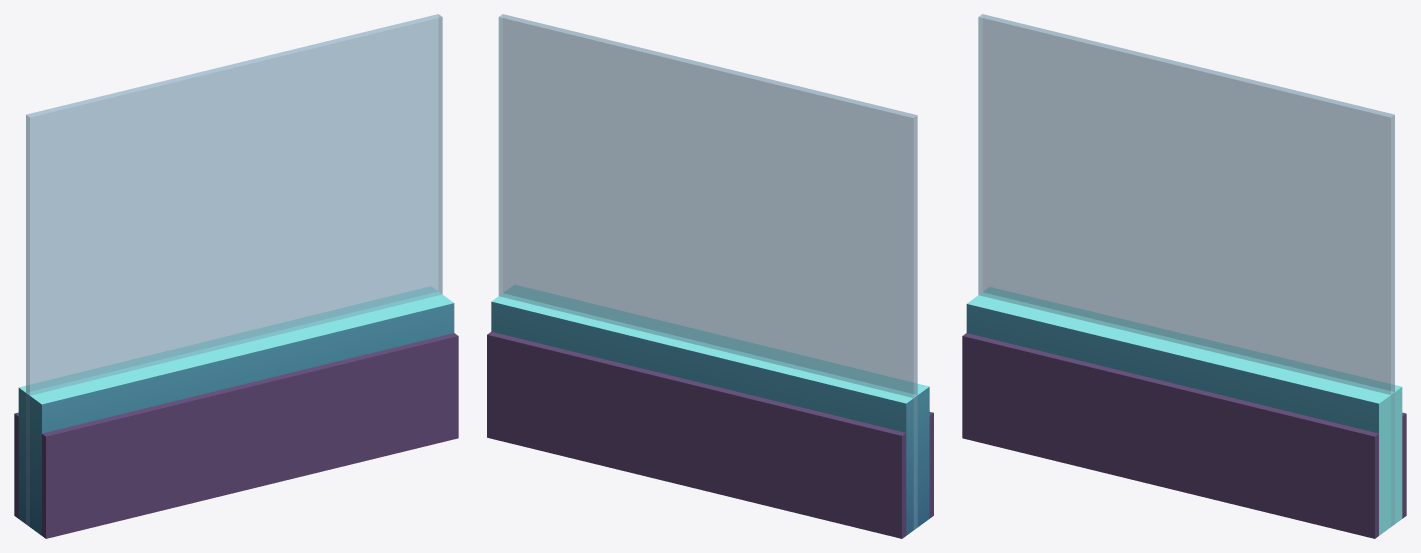
The model's file is M1_Wall_02_Glass.fbx.
The picture shows the model from 3 angles, left to right: view 1: azimuth 30°, elevation 25°; view 2: azimuth 150°, elevation 25°; view 3: azimuth 330°, elevation 25°; orthographic projection.
Parts seen in each view (by area): view 1: M1_Wall_02_Glass; view 2: M1_Wall_02_Glass; view 3: M1_Wall_02_Glass.
Part boxes in pixels (x1=…): M1_Wall_02_Glass: x1=14, y1=14, x2=458, y2=538; M1_Wall_02_Glass: x1=487, y1=14, x2=933, y2=538; M1_Wall_02_Glass: x1=962, y1=14, x2=1406, y2=538.
Bounding box in the file's own units: 400 × 380 × 53.06.
